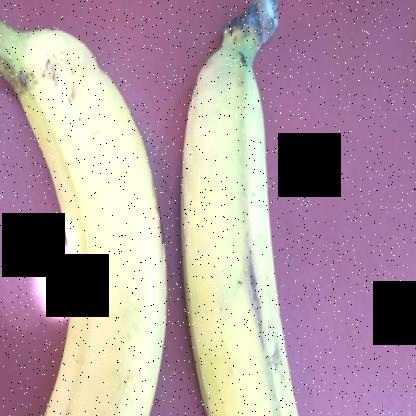freshripe: (10, 40, 179, 415)
ripe: (168, 1, 324, 415)
